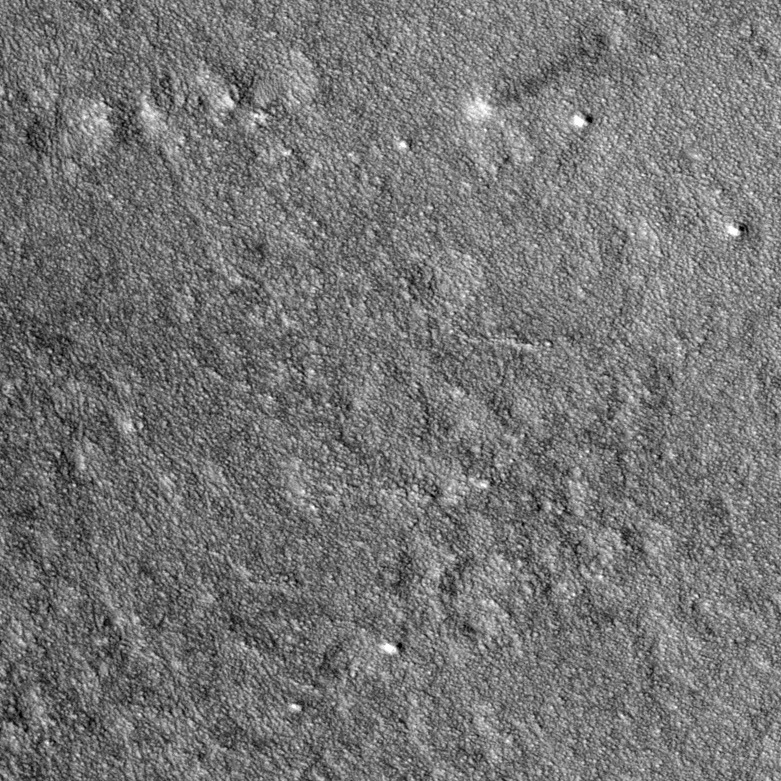dust_devil: (463, 25, 615, 124)
